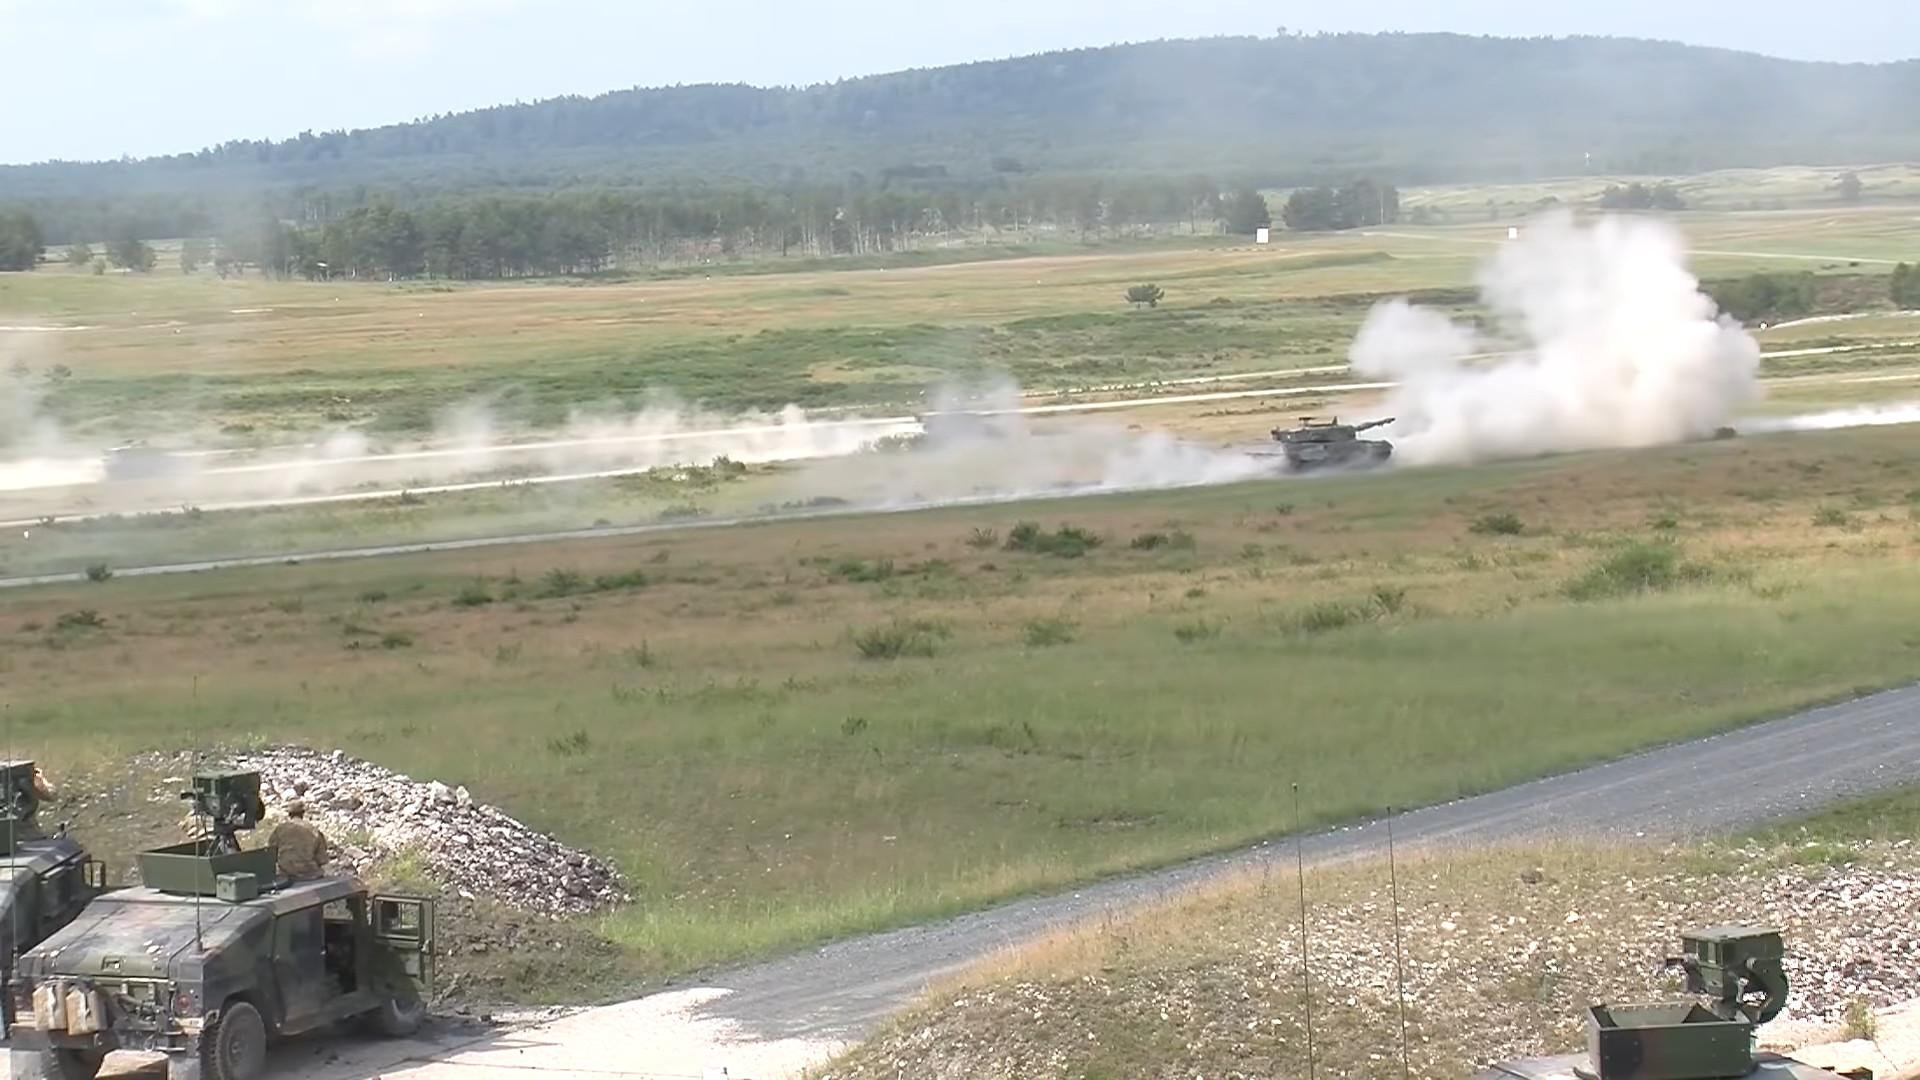tank: (1244, 418, 1395, 473)
